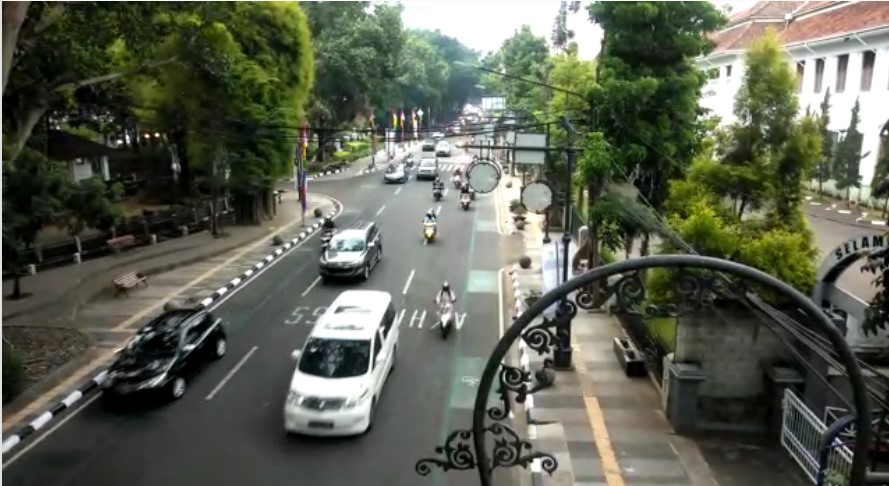mobil: (276, 290, 401, 439), (86, 307, 228, 405), (317, 226, 384, 289)
motor: (430, 280, 461, 337), (419, 209, 442, 242)
